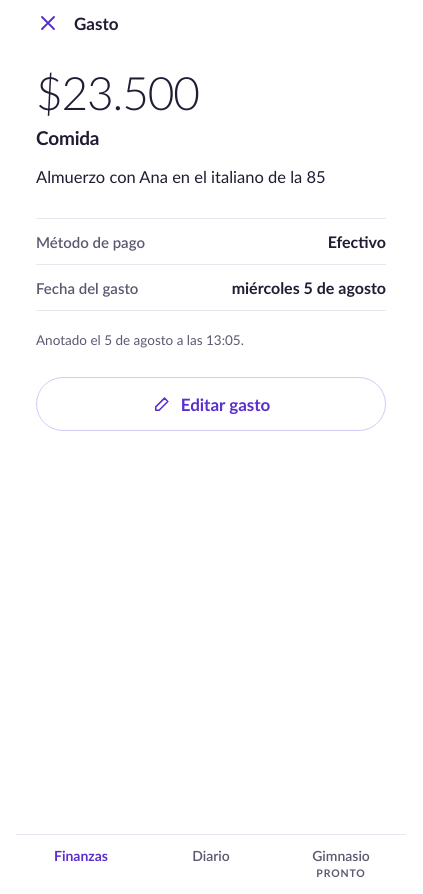
it: criteria 17.2-17.6 — what the detail shows › offers exactly one edit action, which opens the form pre-filled (17.6)
Step 1. Click the button "Editar gasto" → click(211, 404), box [36,377,386,431]
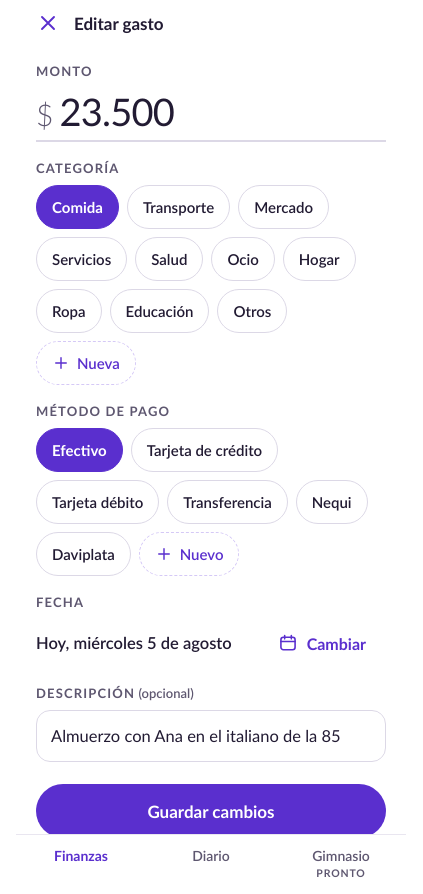
Check: the field named "Monto" holds "23.500", box [59,88,386,134]
Check: the button "Guardar cambios" is shown, box [36,784,386,834]
